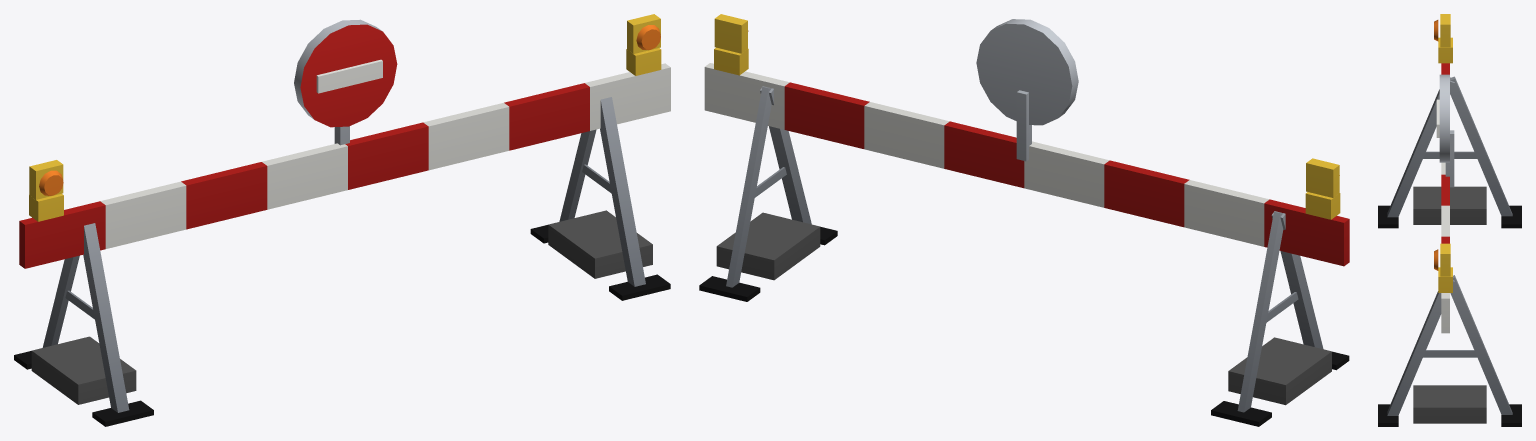
Rendered from Road_Barrier_Closed.fbx.
The picture shows the model from 3 angles, left to right: view 1: azimuth 30°, elevation 25°; view 2: azimuth 150°, elevation 25°; view 3: azimuth 270°, elevation 25°; orthographic projection. The views are drawn at different scales.
Visible parts, largest first — view 1: Road_Barrier_Closed_LOD0; view 2: Road_Barrier_Closed_LOD0; view 3: Road_Barrier_Closed_LOD0.
Part boxes in pixels (x1=…): Road_Barrier_Closed_LOD0: x1=14, y1=14, x2=670, y2=426; Road_Barrier_Closed_LOD0: x1=699, y1=14, x2=1349, y2=426; Road_Barrier_Closed_LOD0: x1=1378, y1=14, x2=1521, y2=426.
Size of what is drawn, in the model's own units: 4 by 1.81 by 0.98.
Materials: 1 (1 with a texture image).
